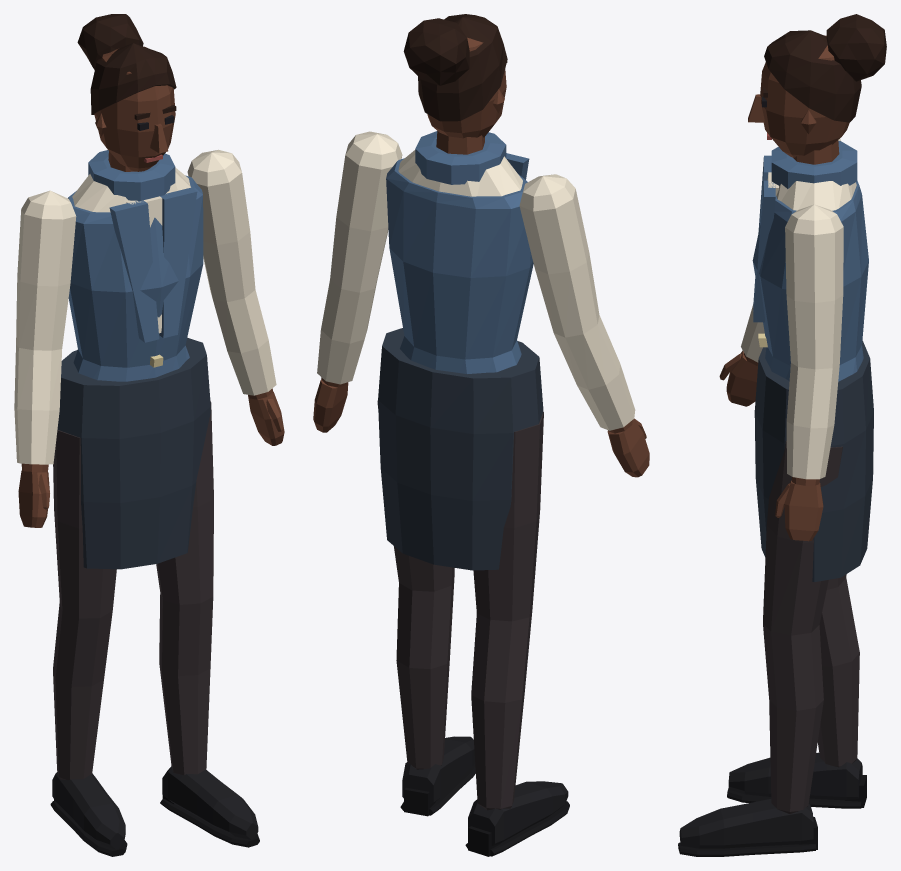
File: HUMAN_04.obj
3 renders of one model, left to right at view 1: azimuth 30°, elevation 25°; view 2: azimuth 150°, elevation 25°; view 3: azimuth 270°, elevation 25°, orthographic. The views are drawn at different scales.
Parts seen in each view (by area): view 1: skirt, jacket, leg_R, sleeve_R, leg_L, sleeve_L, hair, shoe_L, head, shoe_R, hand_R, torso (+2 smaller); view 2: skirt, jacket, leg_R, sleeve_R, sleeve_L, leg_L, hair, shoe_R, shoe_L, torso, head, hand_R (+2 smaller); view 3: leg_L, sleeve_L, skirt, jacket, hair, leg_R, shoe_L, shoe_R, head, hand_L, torso, hand_R (+3 smaller).
Part boxes in pixels (x1,y1,x2,y2): skirt: (57, 337, 210, 569); jacket: (68, 150, 203, 381); leg_R: (53, 430, 116, 780); sleeve_R: (14, 190, 76, 464); leg_L: (156, 401, 213, 775); sleeve_L: (187, 149, 276, 395); hair: (77, 14, 176, 114); shoe_L: (160, 766, 259, 847); head: (94, 46, 175, 171); shoe_R: (50, 772, 127, 856); hand_R: (18, 470, 49, 527); torso: (72, 167, 190, 212); skirt: (378, 328, 543, 570); jacket: (386, 131, 533, 373); leg_R: (471, 412, 543, 810); sleeve_R: (519, 174, 635, 430); sleeve_L: (317, 131, 402, 384); leg_L: (377, 400, 454, 769); hair: (403, 14, 507, 121); shoe_R: (465, 781, 569, 856); shoe_L: (400, 736, 475, 816); torso: (398, 150, 522, 196); head: (427, 37, 506, 138); hand_R: (607, 418, 649, 477); leg_L: (763, 441, 842, 813); sleeve_L: (785, 204, 843, 479); skirt: (754, 340, 873, 582); jacket: (752, 141, 868, 381); hair: (764, 14, 886, 122); leg_R: (817, 574, 859, 767); shoe_L: (678, 799, 817, 856); shoe_R: (727, 752, 866, 808); head: (760, 35, 849, 157); hand_L: (775, 480, 823, 541); torso: (776, 181, 856, 210); hand_R: (719, 350, 757, 406).
Bounding box in the file's own units: 0.6622 × 1.75 × 0.4125.
